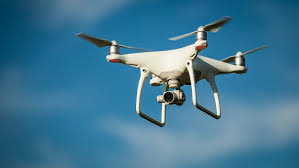Drone: (62, 10, 276, 133)
